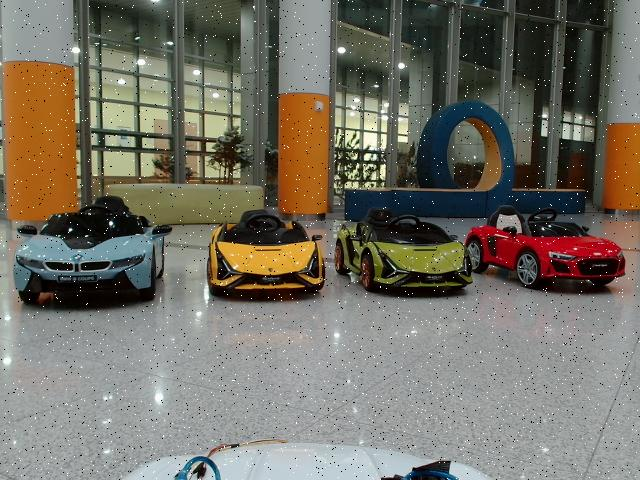car: (11, 196, 173, 304), (463, 204, 626, 287), (335, 208, 473, 297), (206, 209, 326, 296)
